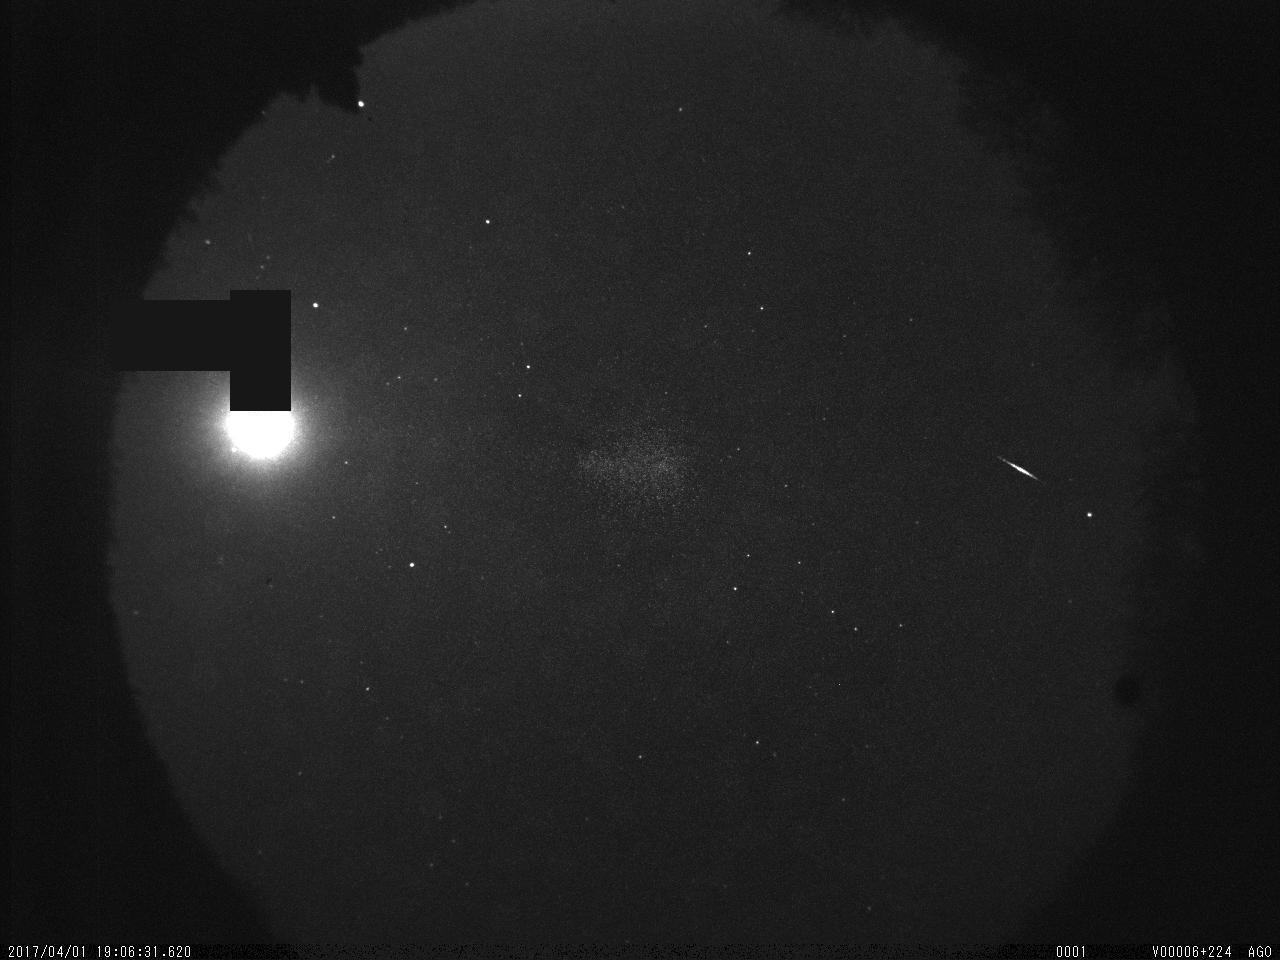Meteor: (994, 454, 1042, 484)
